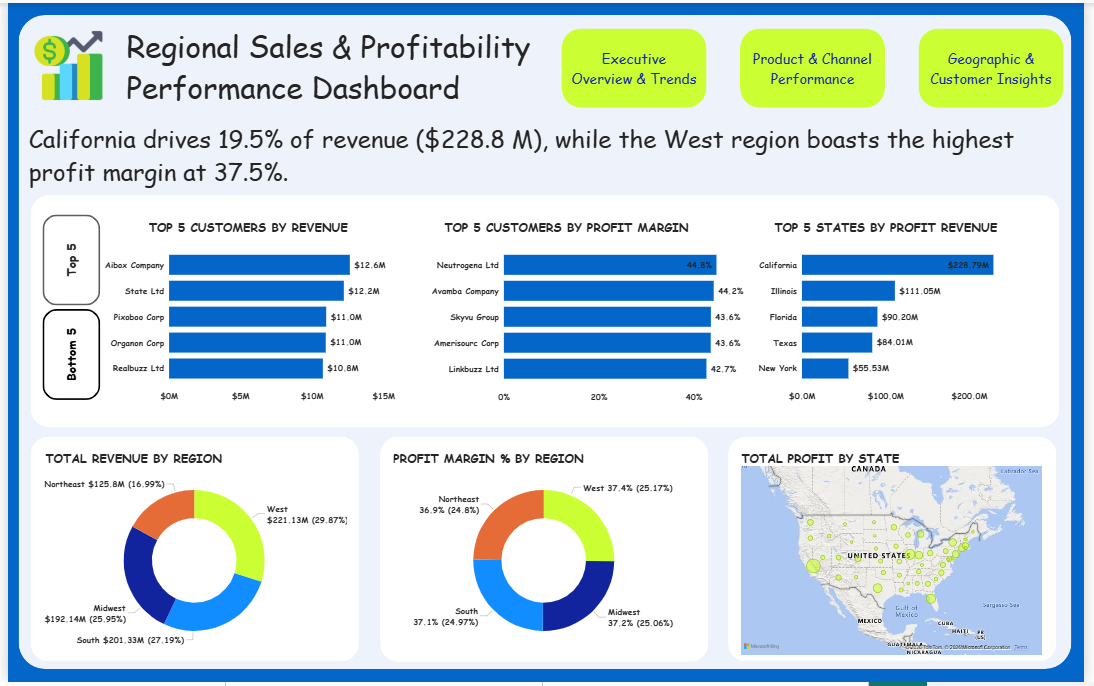

The page's visual inventory and layout, read from the dashboard file:
{"tool":"powerbi","page":{"name":"Geographic & Customer Insights","canvas":[1932,1220],"ordinal":2},"visuals":[{"type":"shape","box":[18.9,21.6,1892,1175.1],"z":0},{"type":"image","box":[28.7,36.3,157.6,154.5],"z":0,"group":"g2"},{"type":"actionButton","box":[992.3,48.4,260.6,142.4],"z":0,"group":"g3"},{"type":"actionButton","box":[62.6,380,103.7,163.5],"z":0,"group":"g4"},{"type":"group","id":"g1","title":"Group 2","box":[168.4,420.9,1715.2,307.4],"z":0,"group":"g5"},{"type":"barChart","title":"Bottom 5 States by Revenue","fields":{"Category":["Sales_data.state_name"],"Y":["Measures_.Total Revenue"]},"box":[1343.6,420.9,540,306.9],"z":0,"group":"g1"},{"type":"group","id":"g2","title":"Group 3","box":[28.7,36.3,1866.7,172.7],"z":1000},{"type":"textbox","box":[207.5,36.3,824.2,172.7],"z":1000,"group":"g2"},{"type":"actionButton","box":[1634.7,48.4,260.6,142.4],"z":1000,"group":"g3"},{"type":"barChart","title":"Bottom 5 Customers by Revenue","fields":{"Category":["Sales_data.customer_name"],"Y":["Measures_.Total Revenue"]},"box":[168.4,420.9,540,306.9],"z":1000,"group":"g1"},{"type":"actionButton","box":[62,548.6,103.7,163.5],"z":1000,"group":"g4"},{"type":"group","id":"g3","title":"Group 1","box":[992.3,48.4,903,142.4],"z":2000,"group":"g2"},{"type":"actionButton","box":[1313.5,48.4,260.6,142.4],"z":2000,"group":"g3"},{"type":"textbox","title":"Top Text","box":[32.3,207.5,1865.1,137.5],"z":2000},{"type":"barChart","title":"Bottom 5 Customers by Profit Margin","fields":{"Category":["Sales_data.customer_name"],"Y":["Measures_.Profit Margin %"]},"box":[756,421.1,590.2,307.3],"z":2000,"group":"g1"},{"type":"shape","box":[40.4,345,1848.9,417.8],"z":3000},{"type":"group","id":"g4","title":"Switch Buttons","box":[62,380,105.1,331.5],"z":8000},{"type":"shape","box":[40.4,778.9,590.2,404.3],"z":9000},{"type":"shape","box":[667.2,778.9,590,405],"z":10000},{"type":"shape","box":[1293.7,778.9,590.2,404.3],"z":11000},{"type":"textbox","box":[62,798.7,455.5,56.6],"z":12000},{"type":"textbox","box":[687.3,798.7,455.5,56.6],"z":13000},{"type":"textbox","box":[1312.6,798.7,455.5,56.6],"z":14000},{"type":"donutChart","fields":{"Y":["Measures_.Total Revenue"],"Category":["Sales_data.us_region"]},"box":[59.3,827.4,549.8,347.7],"z":15000},{"type":"donutChart","fields":{"Category":["Sales_data.us_region"],"Y":["Measures_.Profit Margin %"]},"box":[687.3,827.4,549.8,347.7],"z":16000},{"type":"map","fields":{"Size":["Measures_.Total Revenue"],"Category":["Sales_data.state"]},"box":[1312.6,827.4,549.8,347.7],"z":17000},{"type":"group","id":"g5","title":"Top 5","box":[168.4,420.9,1716.6,306.6],"z":18000},{"type":"textbox","title":"TOP 5 CUSTOMERS BY REVENUE","box":[248,383.6,455.5,56.6],"z":19000},{"type":"textbox","title":"TOP 5 CUSTOMERS BY PROFIT MARGIN","box":[778.9,383.6,517.5,56.6],"z":20000},{"type":"textbox","title":"TOP 5 STATES BY PROFIT REVENUE","box":[1371.9,383.6,517.5,56.6],"z":21000}]}

Visuals, with their boxes in screenshot pixels (x1, y1, x2, y2), scaled from the page's 1932x1220 canvas onto the 1094x686 screenshot:
shape: {"x1": 11, "y1": 12, "x2": 1082, "y2": 673}
image: {"x1": 16, "y1": 20, "x2": 105, "y2": 107}
actionButton: {"x1": 562, "y1": 27, "x2": 709, "y2": 107}
actionButton: {"x1": 35, "y1": 214, "x2": 94, "y2": 306}
"Group 2" group: {"x1": 95, "y1": 237, "x2": 1067, "y2": 410}
"Bottom 5 States by Revenue" barChart: {"x1": 761, "y1": 237, "x2": 1067, "y2": 409}
"Group 3" group: {"x1": 16, "y1": 20, "x2": 1073, "y2": 118}
textbox: {"x1": 117, "y1": 20, "x2": 584, "y2": 118}
actionButton: {"x1": 926, "y1": 27, "x2": 1073, "y2": 107}
"Bottom 5 Customers by Revenue" barChart: {"x1": 95, "y1": 237, "x2": 401, "y2": 409}
actionButton: {"x1": 35, "y1": 308, "x2": 94, "y2": 400}
"Group 1" group: {"x1": 562, "y1": 27, "x2": 1073, "y2": 107}
actionButton: {"x1": 744, "y1": 27, "x2": 891, "y2": 107}
"Top Text" textbox: {"x1": 18, "y1": 117, "x2": 1074, "y2": 194}
"Bottom 5 Customers by Profit Margin" barChart: {"x1": 428, "y1": 237, "x2": 762, "y2": 410}
shape: {"x1": 23, "y1": 194, "x2": 1070, "y2": 429}
"Switch Buttons" group: {"x1": 35, "y1": 214, "x2": 95, "y2": 400}
shape: {"x1": 23, "y1": 438, "x2": 357, "y2": 665}
shape: {"x1": 378, "y1": 438, "x2": 712, "y2": 666}
shape: {"x1": 733, "y1": 438, "x2": 1067, "y2": 665}
textbox: {"x1": 35, "y1": 449, "x2": 293, "y2": 481}
textbox: {"x1": 389, "y1": 449, "x2": 647, "y2": 481}
textbox: {"x1": 743, "y1": 449, "x2": 1001, "y2": 481}
donutChart - Measures_.Total Revenue x Sales_data.us_region: {"x1": 34, "y1": 465, "x2": 345, "y2": 661}
donutChart - Sales_data.us_region x Measures_.Profit Margin %: {"x1": 389, "y1": 465, "x2": 701, "y2": 661}
map - Measures_.Total Revenue x Sales_data.state: {"x1": 743, "y1": 465, "x2": 1055, "y2": 661}
"Top 5" group: {"x1": 95, "y1": 237, "x2": 1067, "y2": 409}
"TOP 5 CUSTOMERS BY REVENUE" textbox: {"x1": 140, "y1": 216, "x2": 398, "y2": 248}
"TOP 5 CUSTOMERS BY PROFIT MARGIN" textbox: {"x1": 441, "y1": 216, "x2": 734, "y2": 248}
"TOP 5 STATES BY PROFIT REVENUE" textbox: {"x1": 777, "y1": 216, "x2": 1070, "y2": 248}
